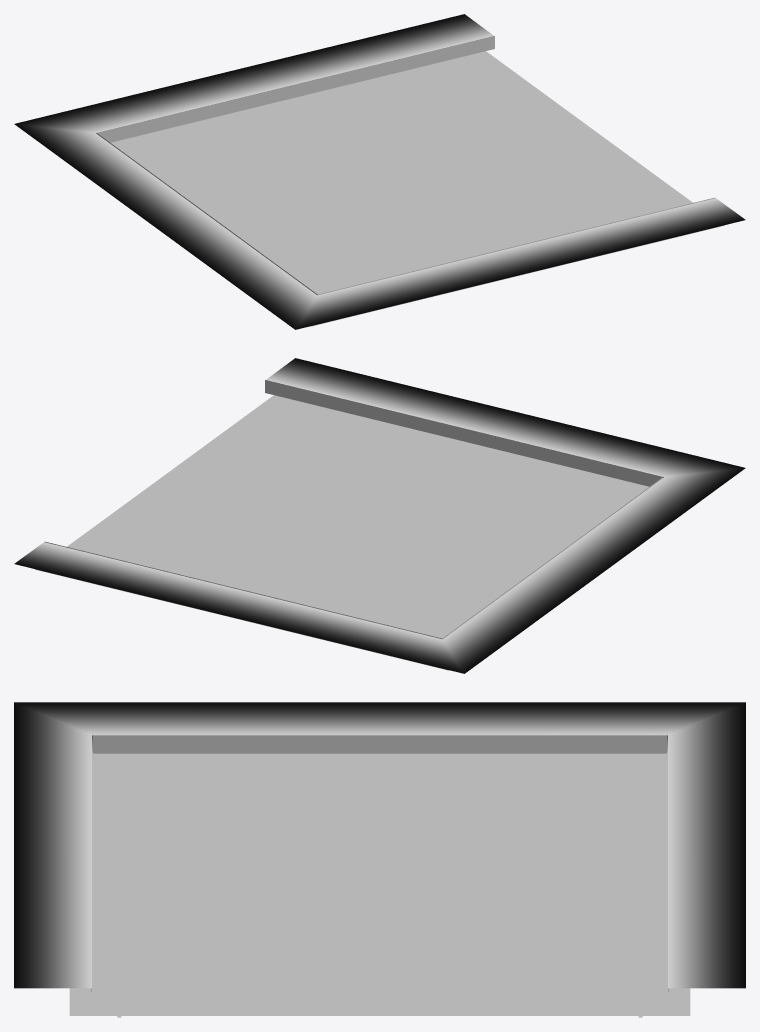
The model's file is CeilingCenter02_5.FBX.
3 views of the same model, one above another, from view 1: azimuth 30°, elevation 25°; view 2: azimuth 150°, elevation 25°; view 3: azimuth 270°, elevation 25° (orthographic). The views are drawn at different scales.
Visible parts, largest first — view 1: Ceiling, Backlight; view 2: Ceiling, Backlight; view 3: Ceiling, Backlight.
Boxes of the visible parts, x1,y1,x2,y2 form: Ceiling: (97,36,724,326); Backlight: (14,14,745,329); Ceiling: (35,380,662,670); Backlight: (14,358,745,673); Ceiling: (69,735,690,1015); Backlight: (14,702,745,991).
Size of the model in its own units: 545 by 26.5 by 589.
